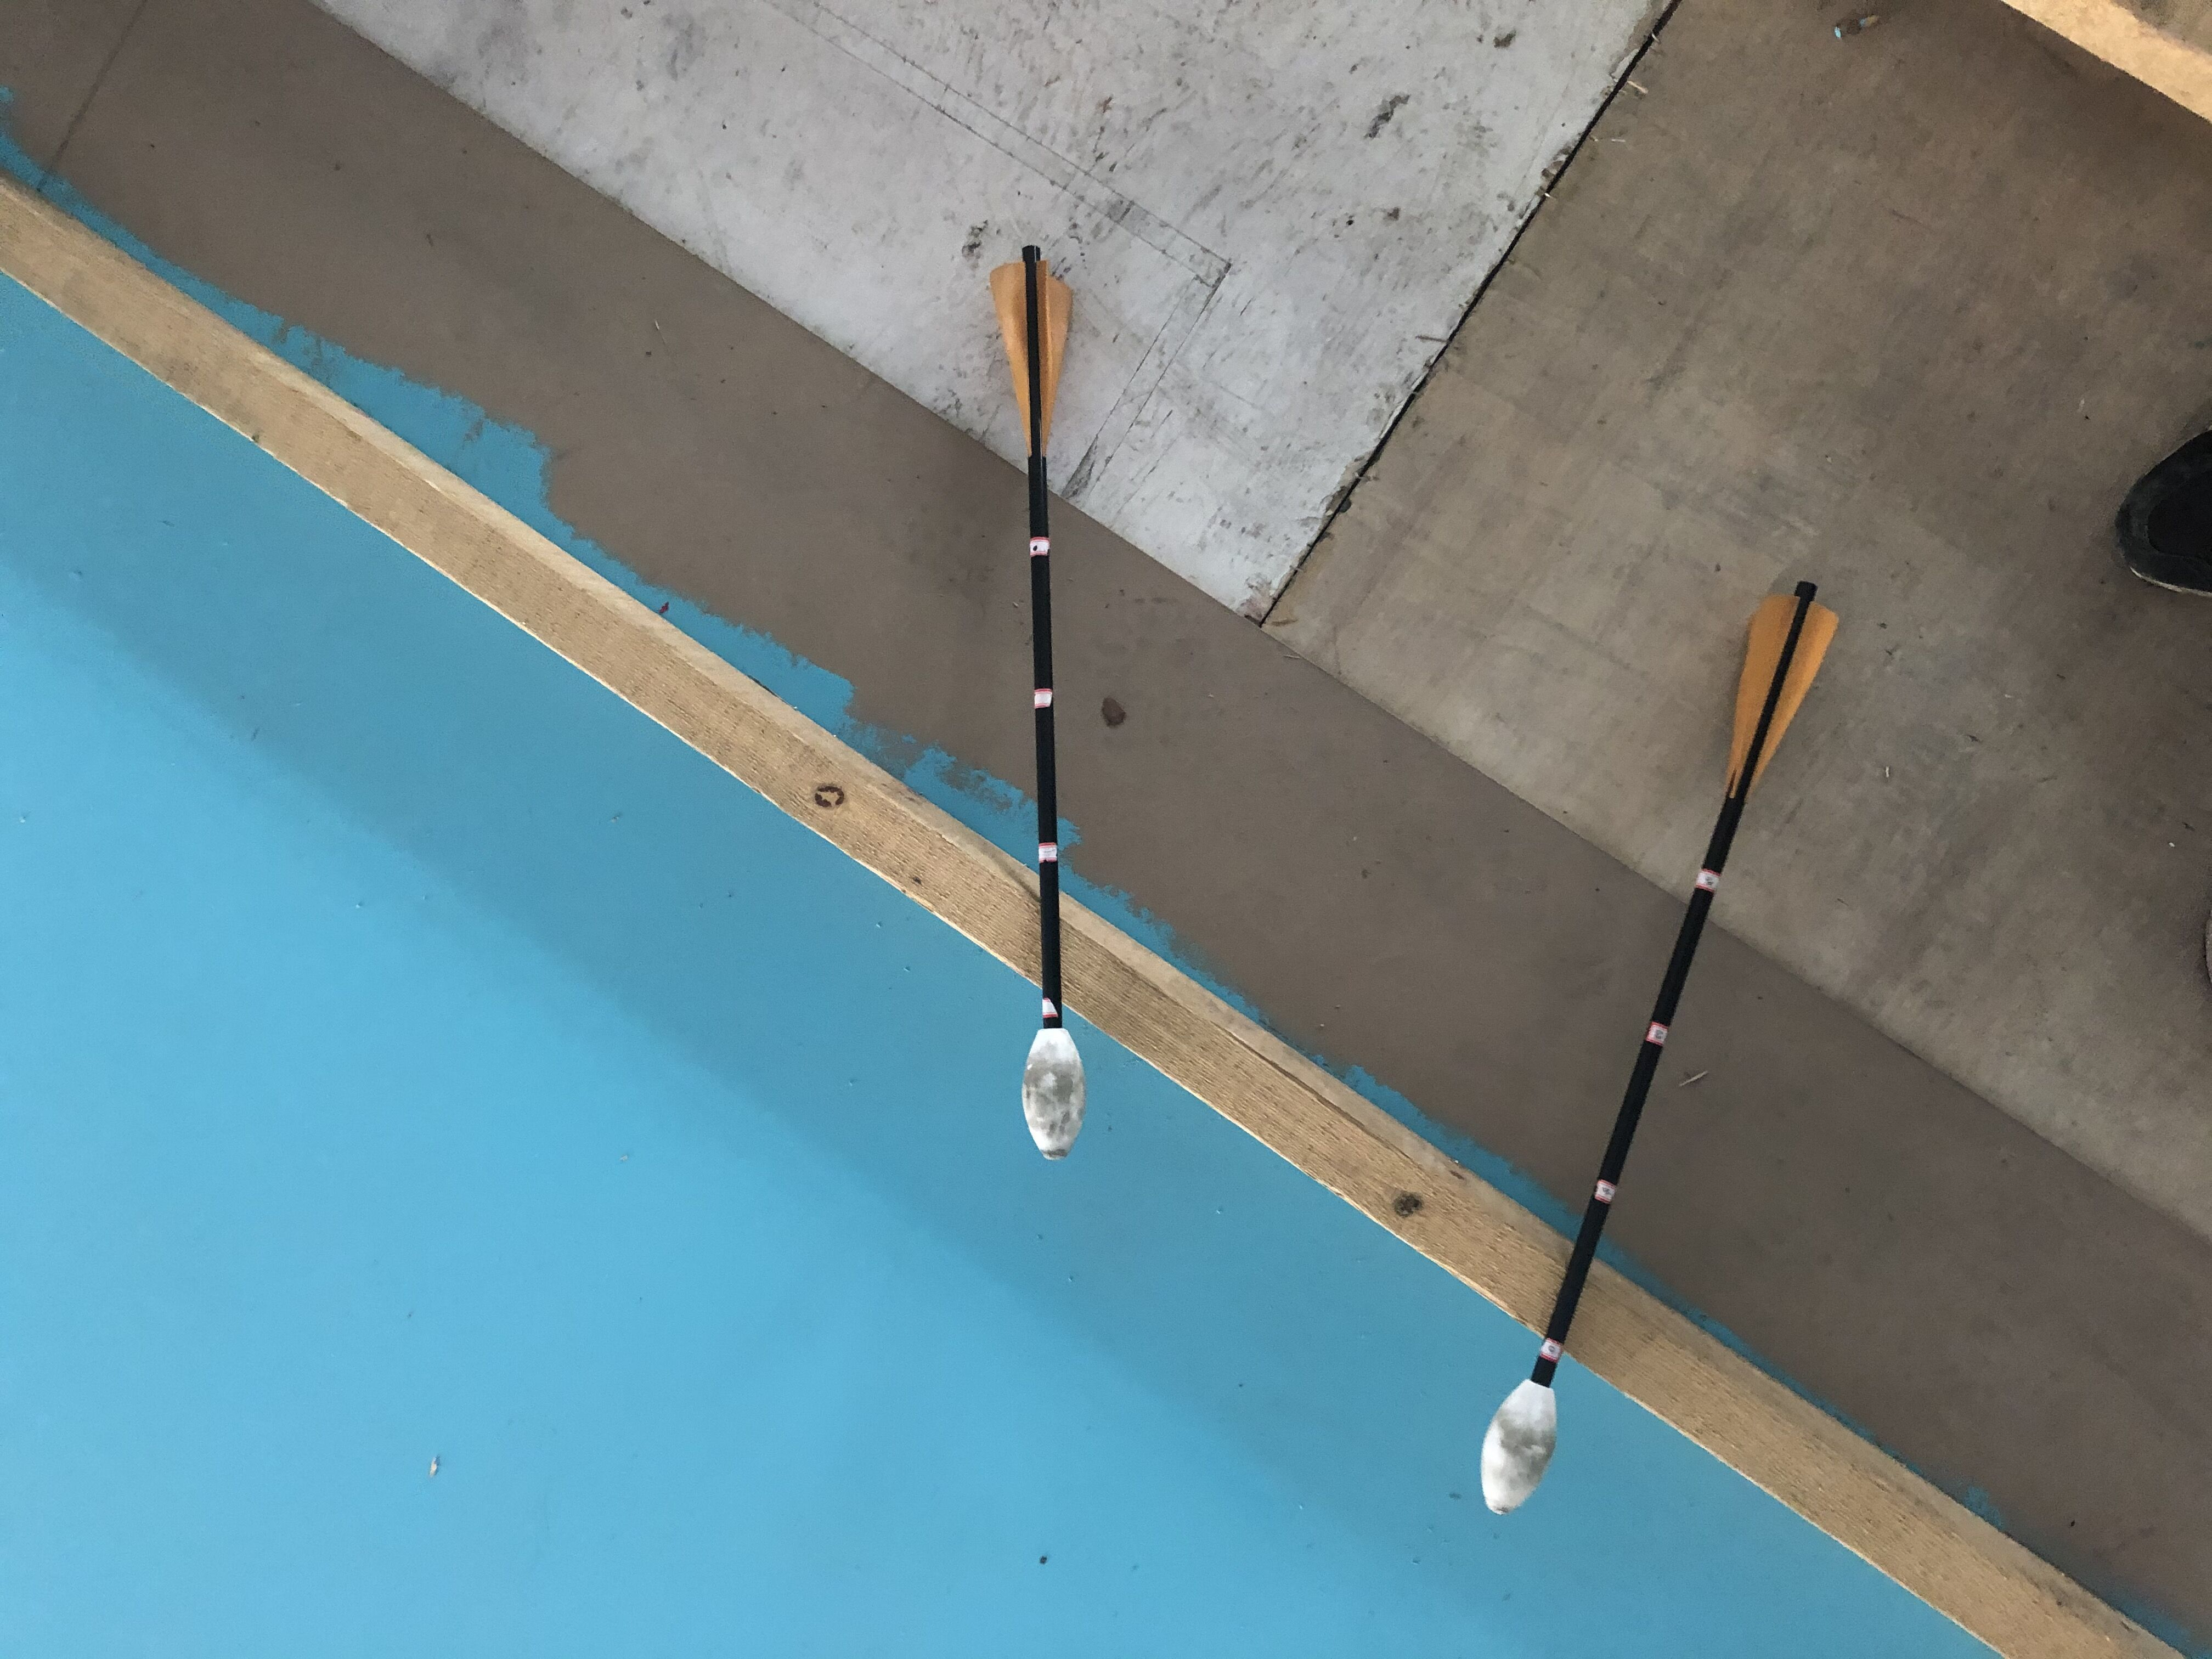arrow: (1477, 584, 1843, 1513), (991, 246, 1089, 1164)
arrowFront: (1480, 1371, 1561, 1518), (1021, 1026, 1085, 1168)
